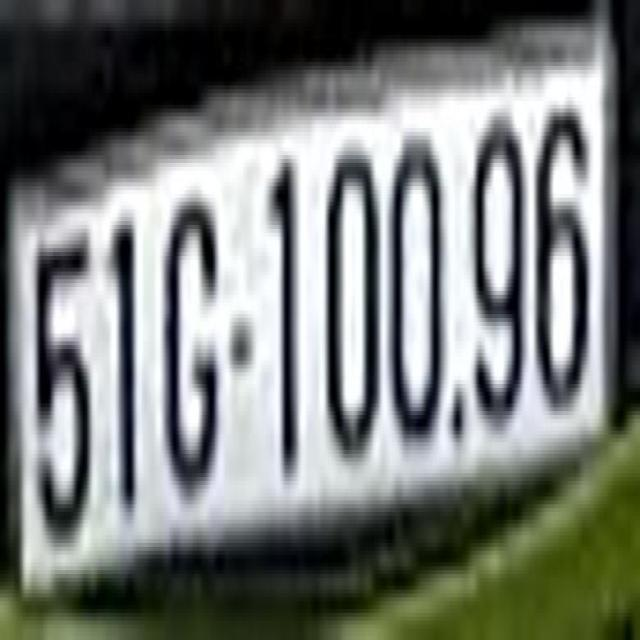0: (322, 140, 384, 458), (392, 132, 442, 438)
1: (267, 105, 303, 492), (105, 198, 144, 528)
5: (31, 217, 93, 547)
6: (532, 93, 592, 415)
9: (474, 108, 524, 426)
G: (157, 167, 220, 492)
